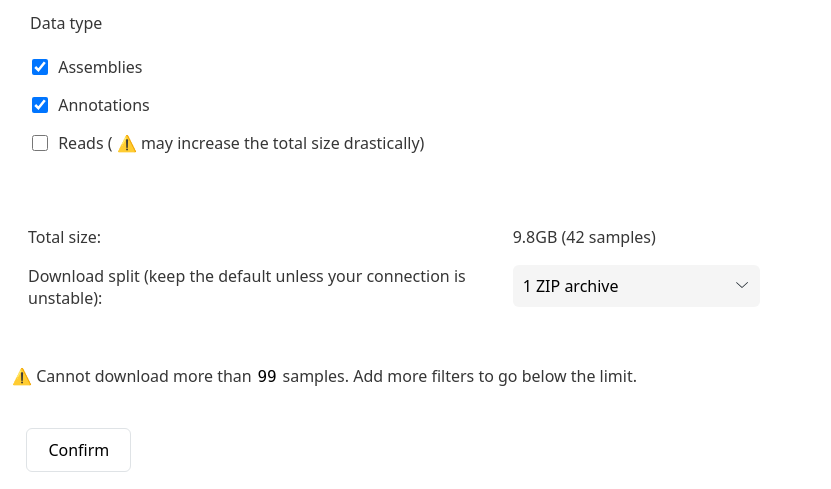
Test: on form submit › hides the download limit warning above the submit button
This screenshot has width=831, height=489.
Step 1. Click the button "Confirm" → (79,450), box [26,428,131,472]
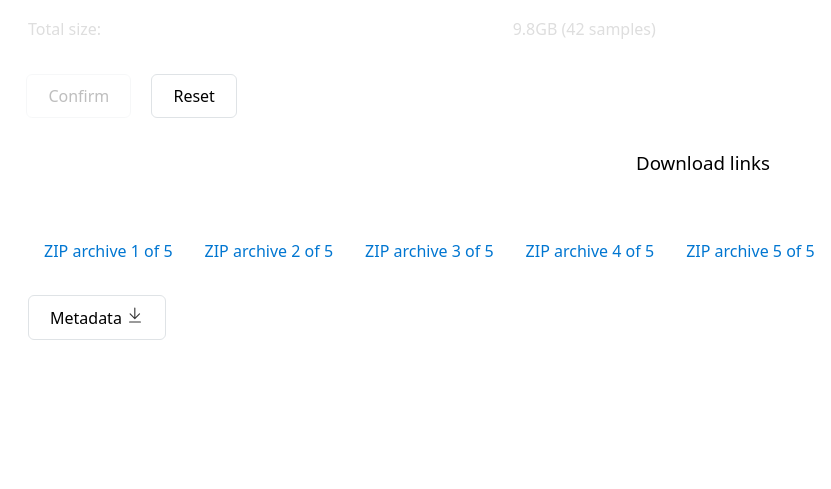
Expected: the text "⚠️ Cannot download more than" is gone
